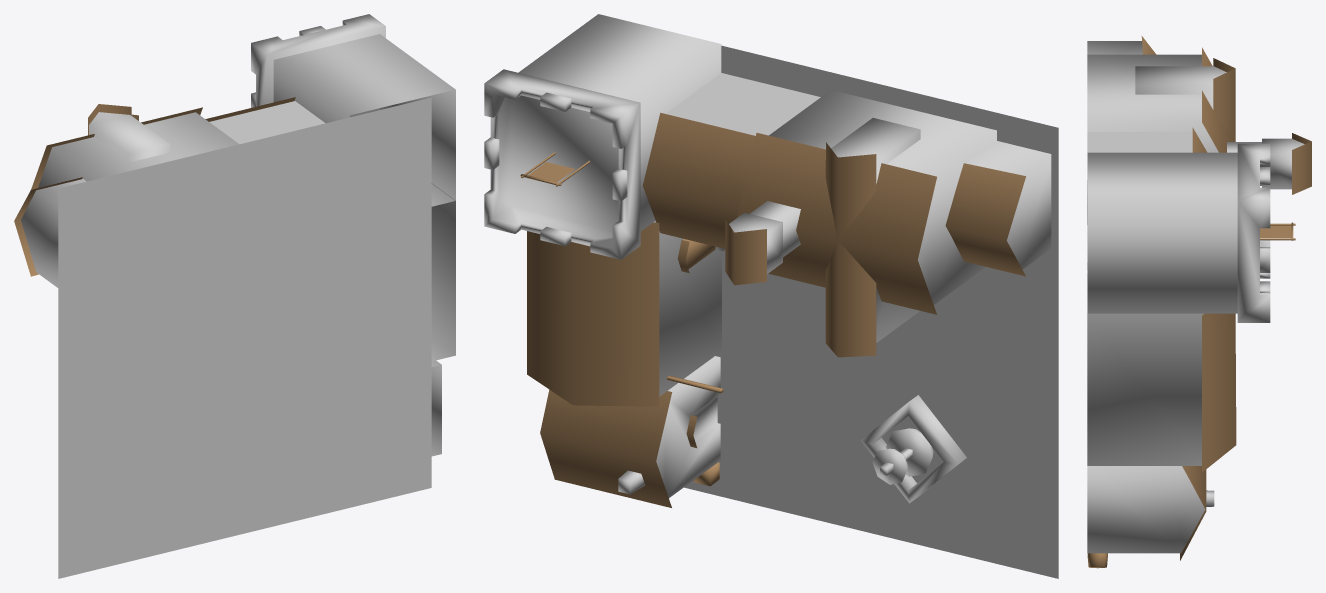
File: UrbanCenter.fbx
3 views of the same model, side by side, from view 1: azimuth 30°, elevation 25°; view 2: azimuth 150°, elevation 25°; view 3: azimuth 270°, elevation 25° (orthographic). The views are drawn at different scales.
Visible parts, largest first — view 1: UrbanCenter; view 2: UrbanCenter; view 3: UrbanCenter.
Part boxes in pixels (bbox=[...]): UrbanCenter: bbox=[14, 14, 455, 578]; UrbanCenter: bbox=[484, 14, 1058, 578]; UrbanCenter: bbox=[1087, 36, 1311, 568].
Size of the model in its own units: 7.59 by 7.16 by 3.71.
